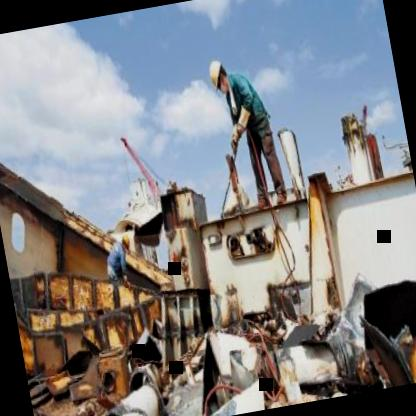helmet: (206, 54, 232, 98), (117, 230, 132, 254)
